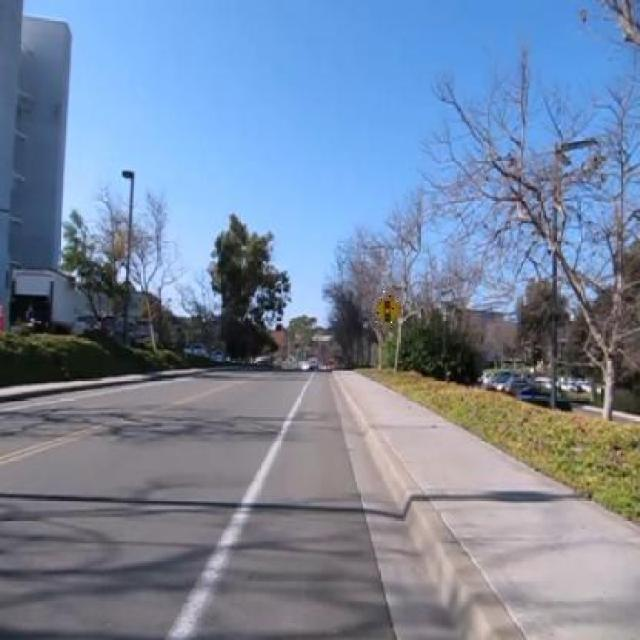signalAhead: (372, 291, 400, 329)
